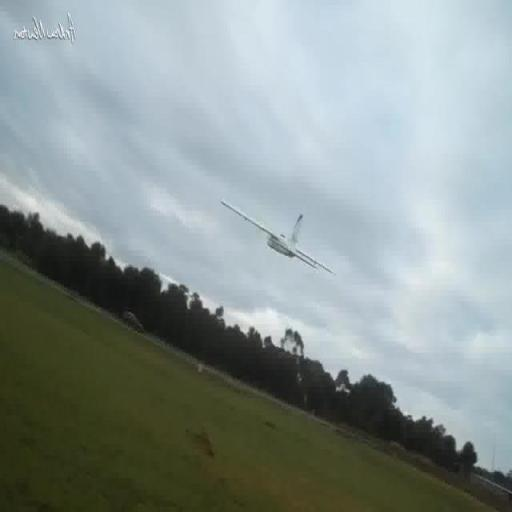uav: (214, 203, 340, 293)
